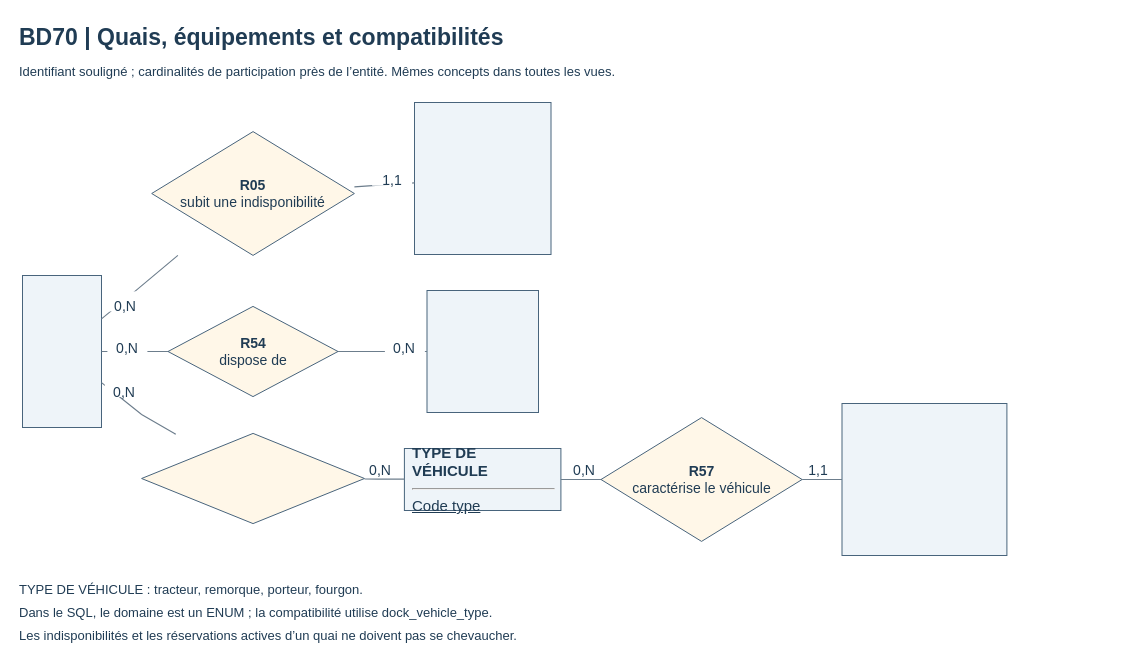
Image size: 1134x661. Some labels were removed from this diagram. Here are the shapes that lost their labels. From the top down, the box of each, then its label:
(414, 102, 551, 254): INDISPONIBILITÉ Identifiant Début Fin Motif
(22, 274, 102, 428): QUAI Identifiant Code Nom Type
(426, 290, 538, 412): ÉQUIPEMENT Identifiant Code Nom
(141, 432, 364, 524): R56 accepte le type
(841, 402, 1007, 556): VÉHICULE Identifiant Immatriculation Capacité (kg) Capacité (éq. palettes)
